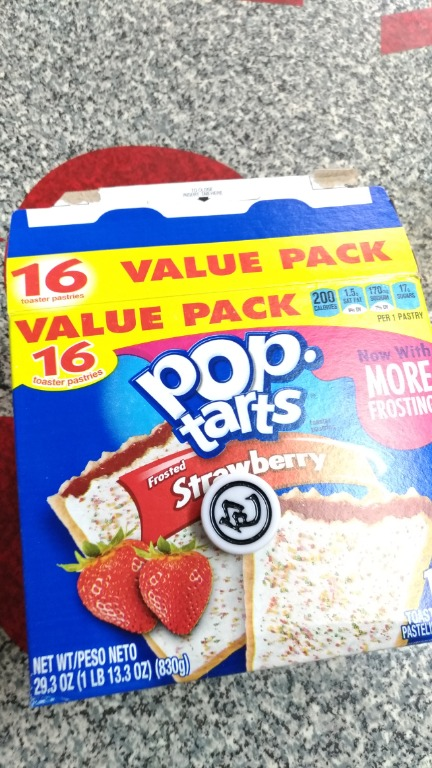b-cannon: (179, 460, 301, 573)
